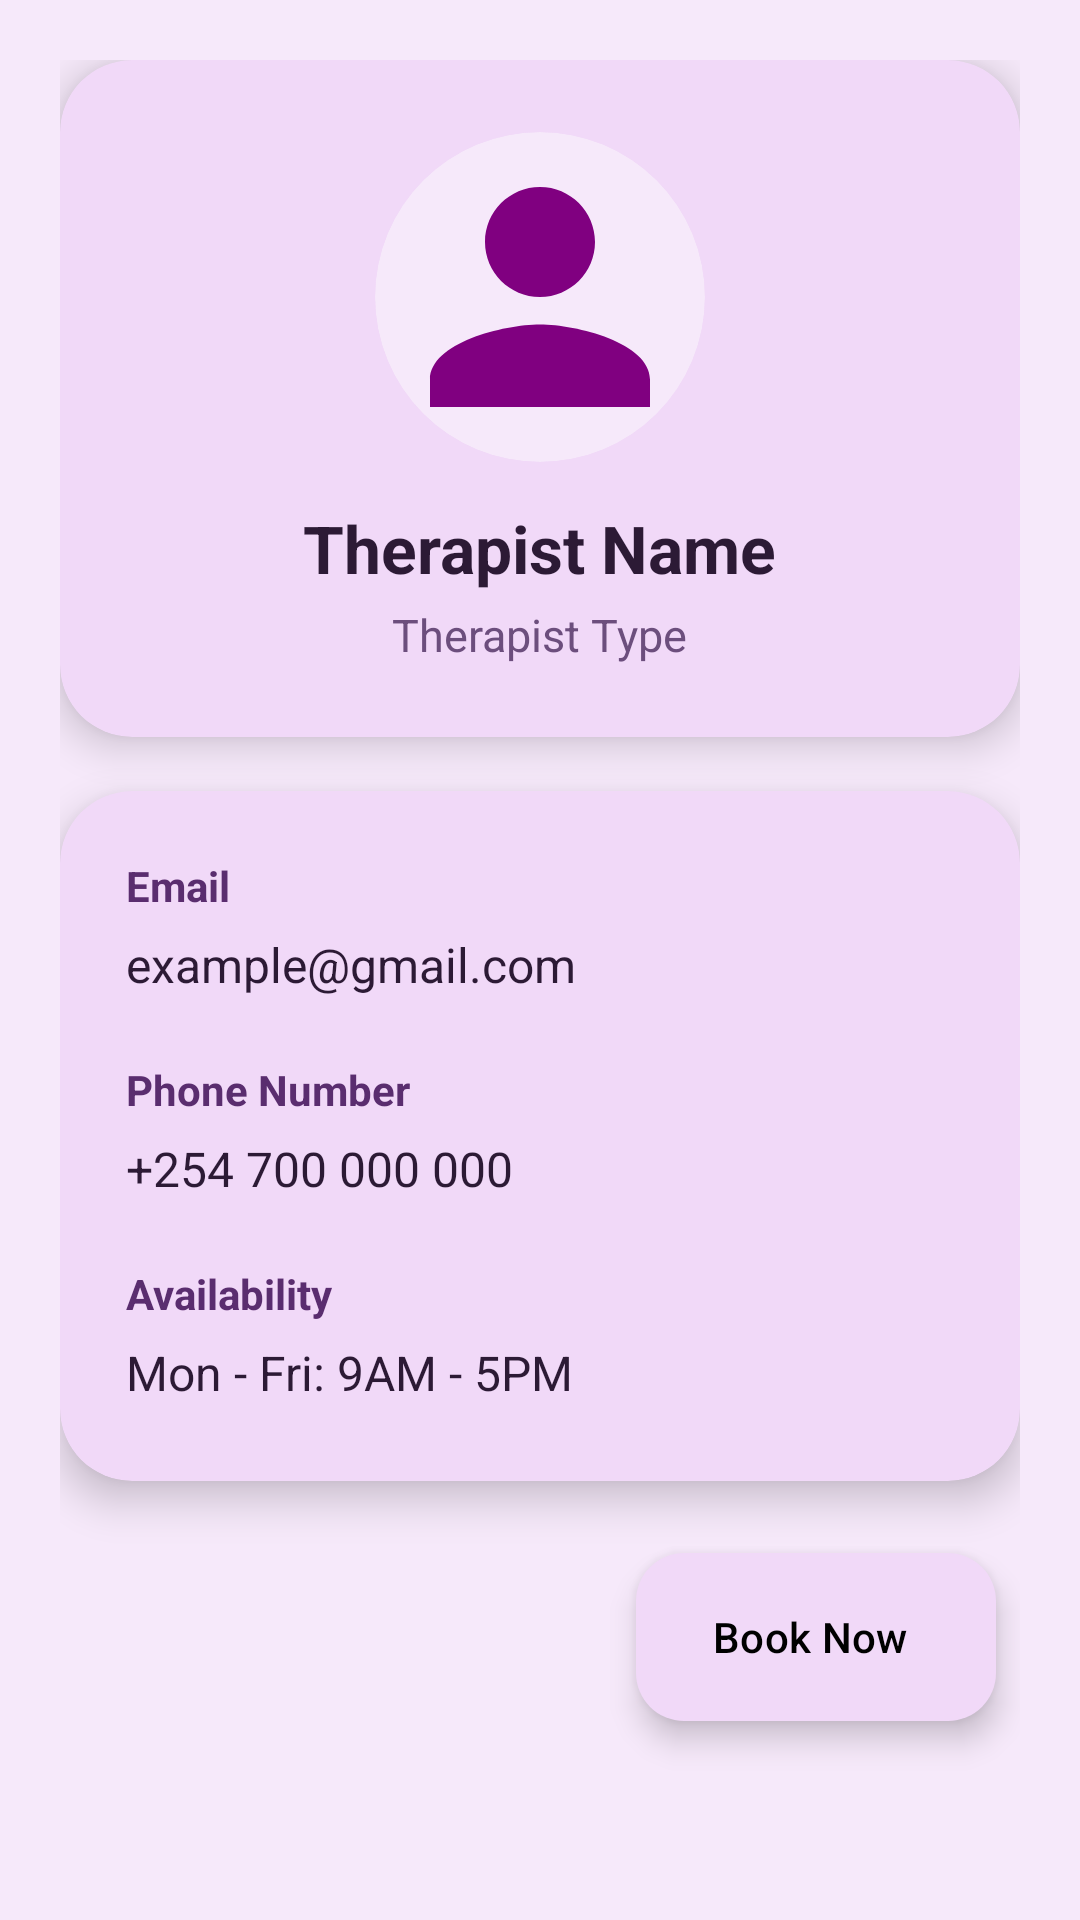

Named icons in this screenshot (1080×1920) and their centers, point (x, y):
account circle: point (540, 297)
